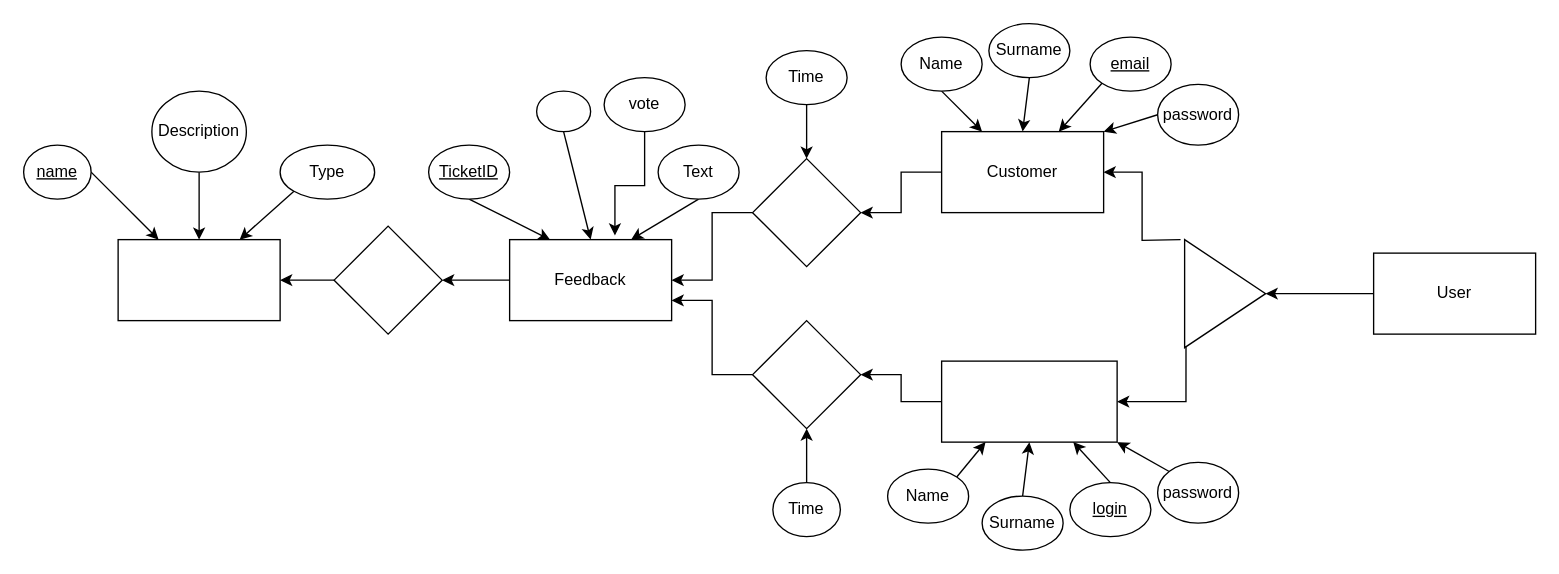
This 1559x574 diagram has some shape labels left out. Here are the shapes that lost their labels. From the top down, the centre of each, then its label:
point 563,111: Title
point 806,212: provides
point 198,279: Product
point 387,279: pertains to
point 1224,293: ISA
point 806,374: control
point 1028,401: Administrator
